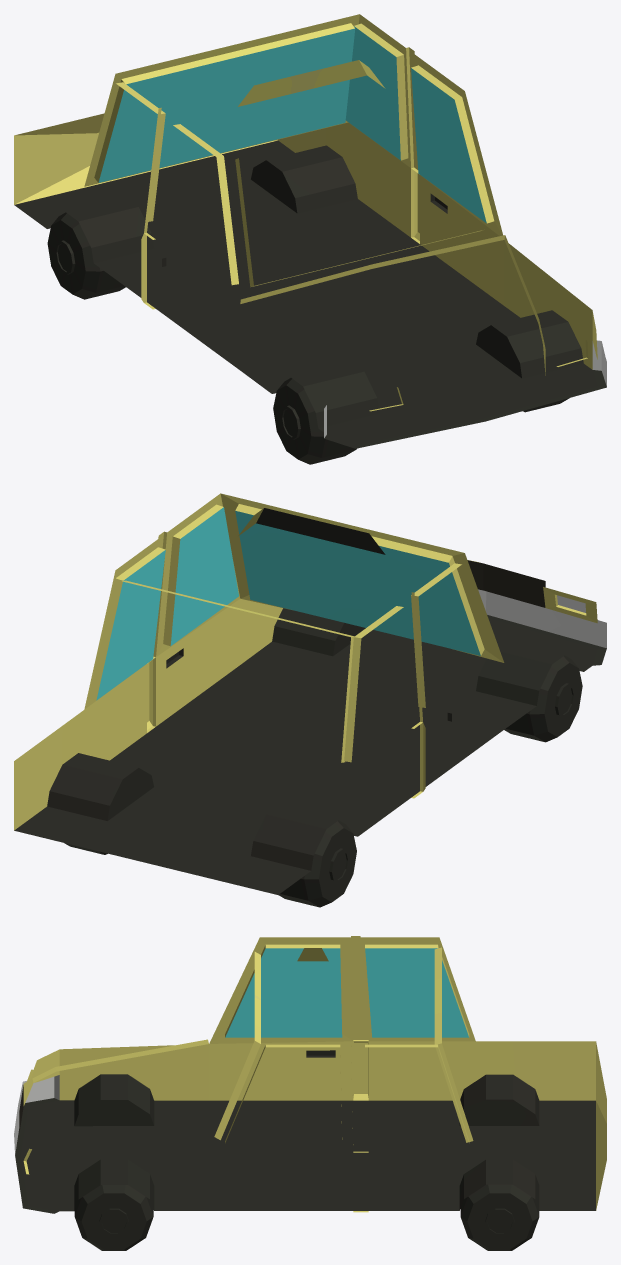
File: taxi.glb
The picture shows the model from 3 angles, top to bottom: view 1: azimuth 30°, elevation 25°; view 2: azimuth 150°, elevation 25°; view 3: azimuth 270°, elevation 25°; orthographic projection. The views are drawn at different scales.
Parts seen in each view (by area): view 1: Taxi_Cube.001, Front_Wheels_Cylinder.001, BackWheels_Cylinder.003; view 2: Taxi_Cube.001, BackWheels_Cylinder.003, Front_Wheels_Cylinder.001; view 3: Taxi_Cube.001, BackWheels_Cylinder.003, Front_Wheels_Cylinder.001.
Boxes of the visible parts, <box> form: Taxi_Cube.001: <box>14,14,606,448</box>; Front_Wheels_Cylinder.001: <box>273,378,569,464</box>; BackWheels_Cylinder.003: <box>47,212,125,299</box>; Taxi_Cube.001: <box>14,493,606,894</box>; BackWheels_Cylinder.003: <box>64,820,356,907</box>; Front_Wheels_Cylinder.001: <box>504,655,582,742</box>; Taxi_Cube.001: <box>14,936,606,1213</box>; BackWheels_Cylinder.003: <box>460,1184,539,1250</box>; Front_Wheels_Cylinder.001: <box>74,1185,153,1250</box>.
Size of the model in its own units: 1.84 by 1.69 by 3.97.
1 material, 1 textured.
